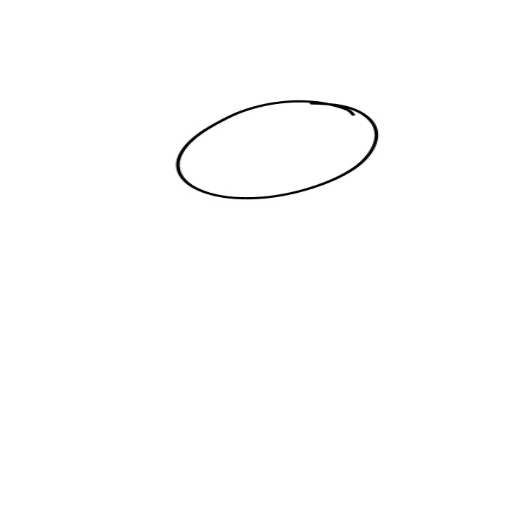circle: (170, 96, 384, 208)
